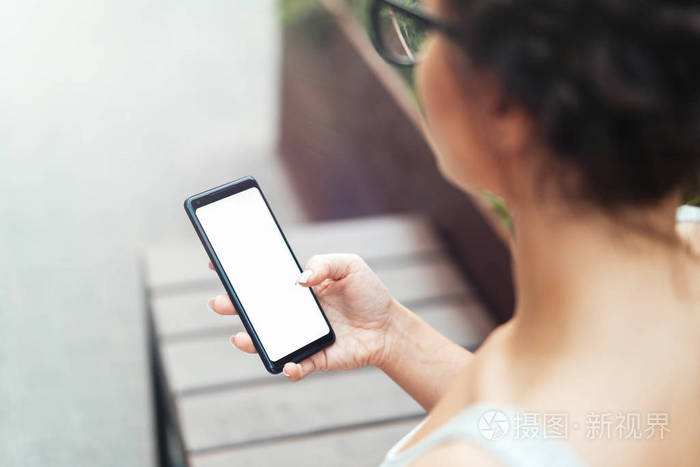phone: (178, 175, 409, 385)
